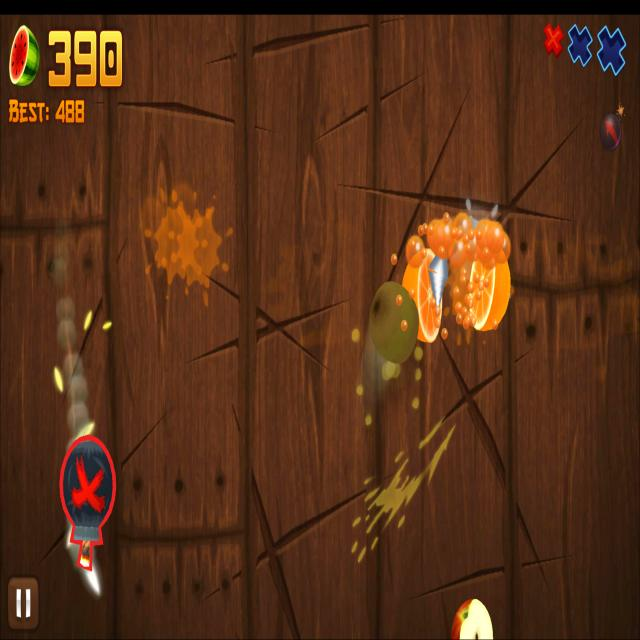fruit: (58, 434, 116, 570), (369, 280, 419, 366), (450, 598, 494, 640)
